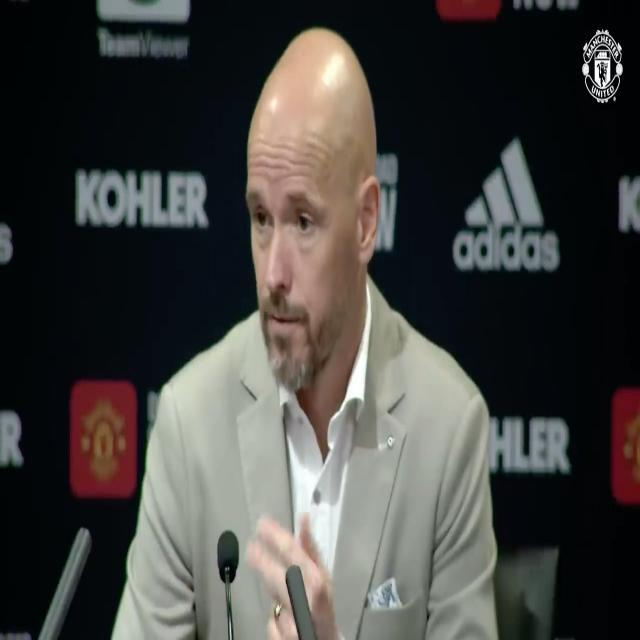Adidas: (452, 135, 560, 270)
Kohler: (75, 168, 208, 228)
TeamViewer: (98, 0, 190, 60)
